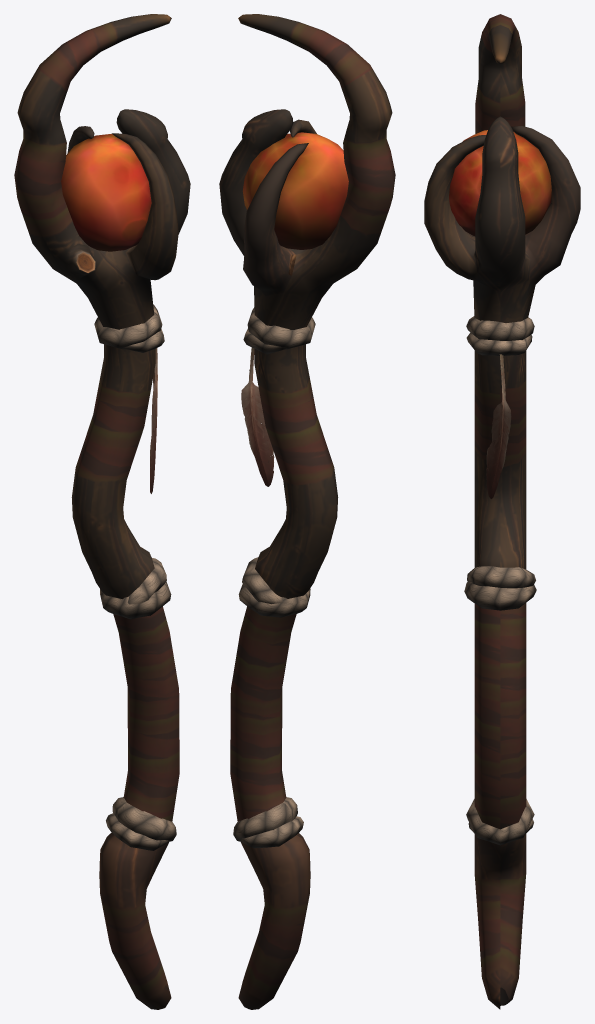
The model's file is wand.fbx.
3 views of the same model, side by side, from view 1: azimuth 30°, elevation 25°; view 2: azimuth 150°, elevation 25°; view 3: azimuth 270°, elevation 25° (orthographic). The views are drawn at different scales.
Parts seen in each view (by area): view 1: wand, ball_fire, feather_damage; view 2: wand, ball_fire, feather_damage; view 3: wand, ball_fire, feather_damage.
Part boxes in pixels (left/top/right/bottom): wand: left=14, top=14, right=190, bottom=1009; ball_fire: left=61, top=134, right=151, bottom=251; feather_damage: left=150, top=348, right=157, bottom=493; wand: left=219, top=14, right=395, bottom=1009; ball_fire: left=242, top=132, right=348, bottom=249; feather_damage: left=241, top=347, right=274, bottom=486; wand: left=424, top=14, right=580, bottom=1009; ball_fire: left=449, top=130, right=551, bottom=236; feather_damage: left=486, top=354, right=511, bottom=498.
Bounding box in the file's own units: 17.65 × 98.49 × 14.55.
7 materials, 7 textured.
